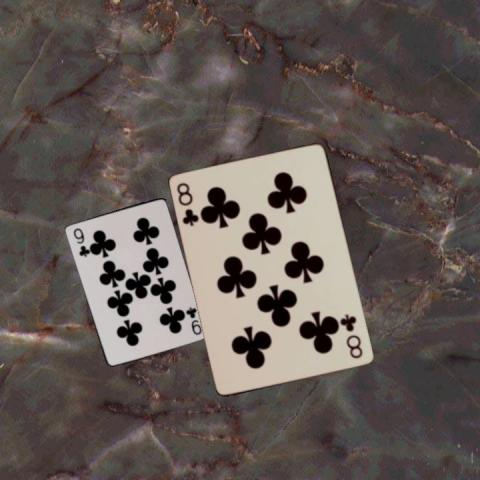8c: (174, 179, 201, 228), (338, 311, 364, 361)
9c: (70, 225, 89, 258), (183, 304, 202, 336)
